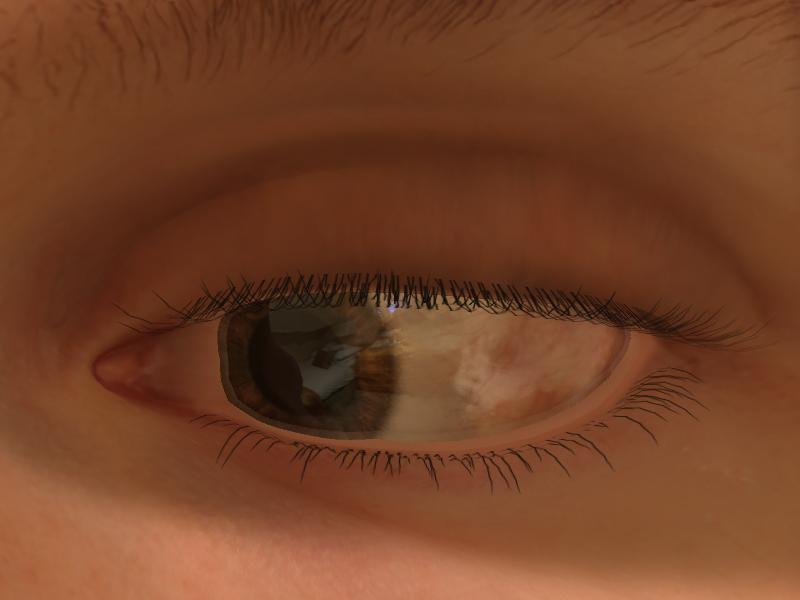eye: (220, 289, 403, 444)
